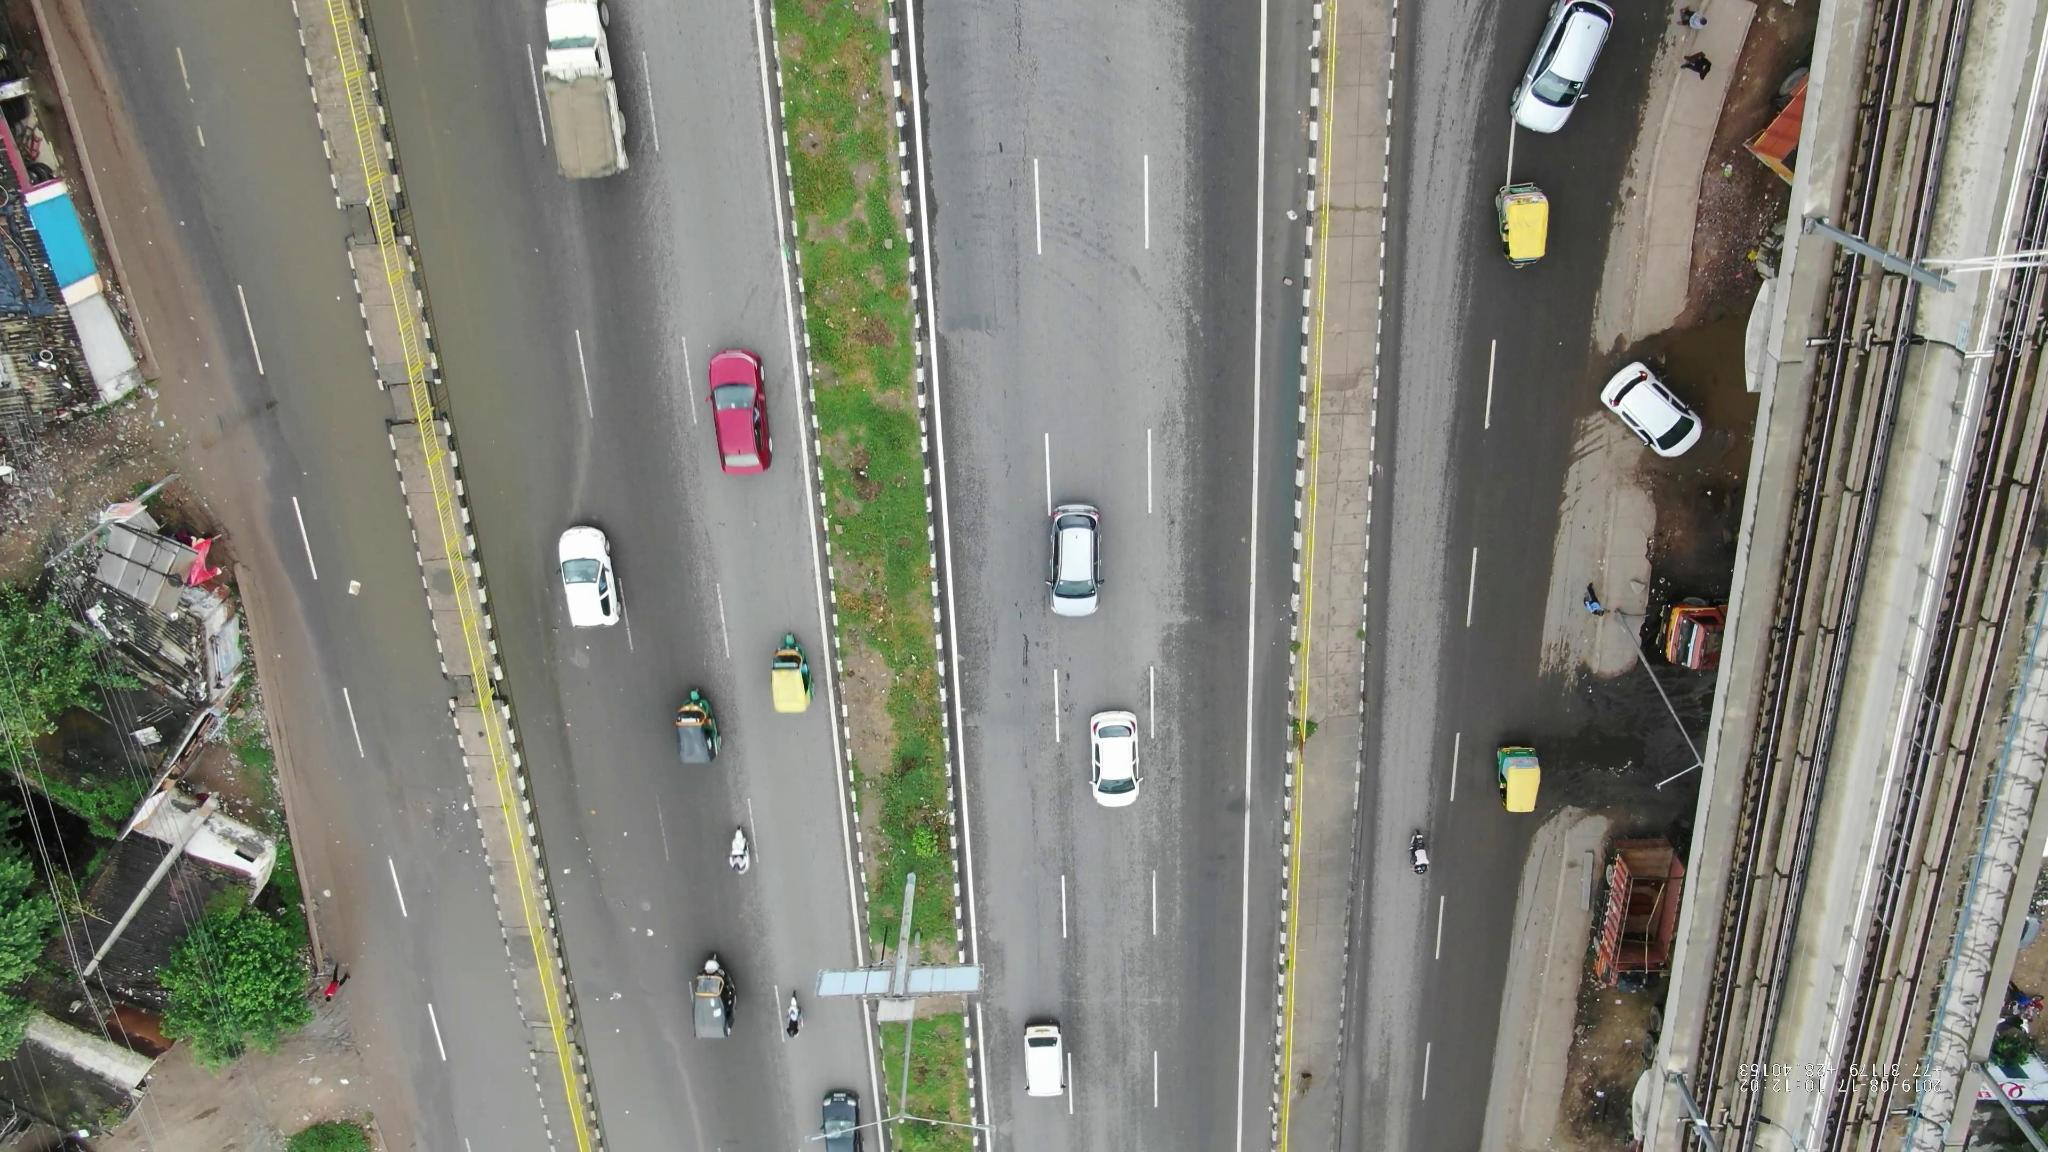Waterlogging: (305, 390, 443, 692), (407, 295, 542, 596)
